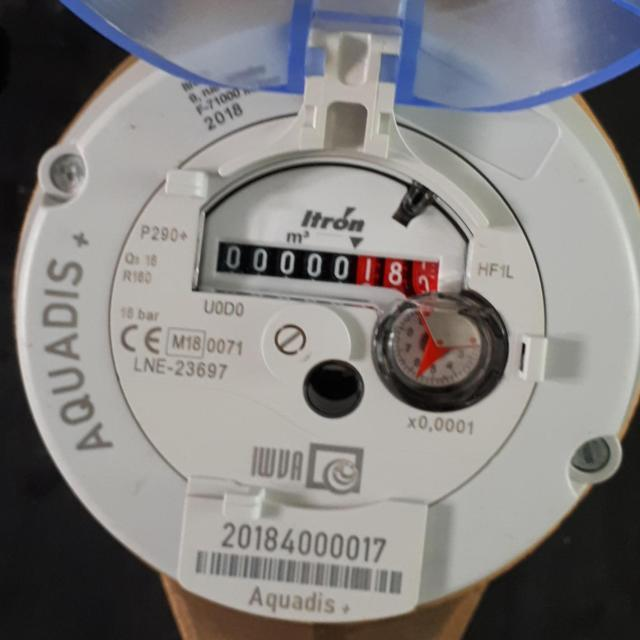gaz_meter: (110, 108, 547, 505)
indication: (213, 237, 441, 298)
